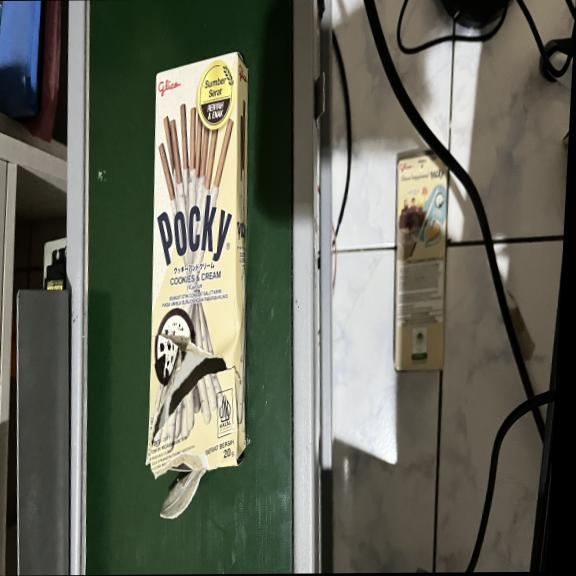Kertas: (136, 41, 262, 471)
